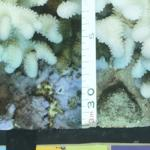alive: (1, 11, 146, 149)
